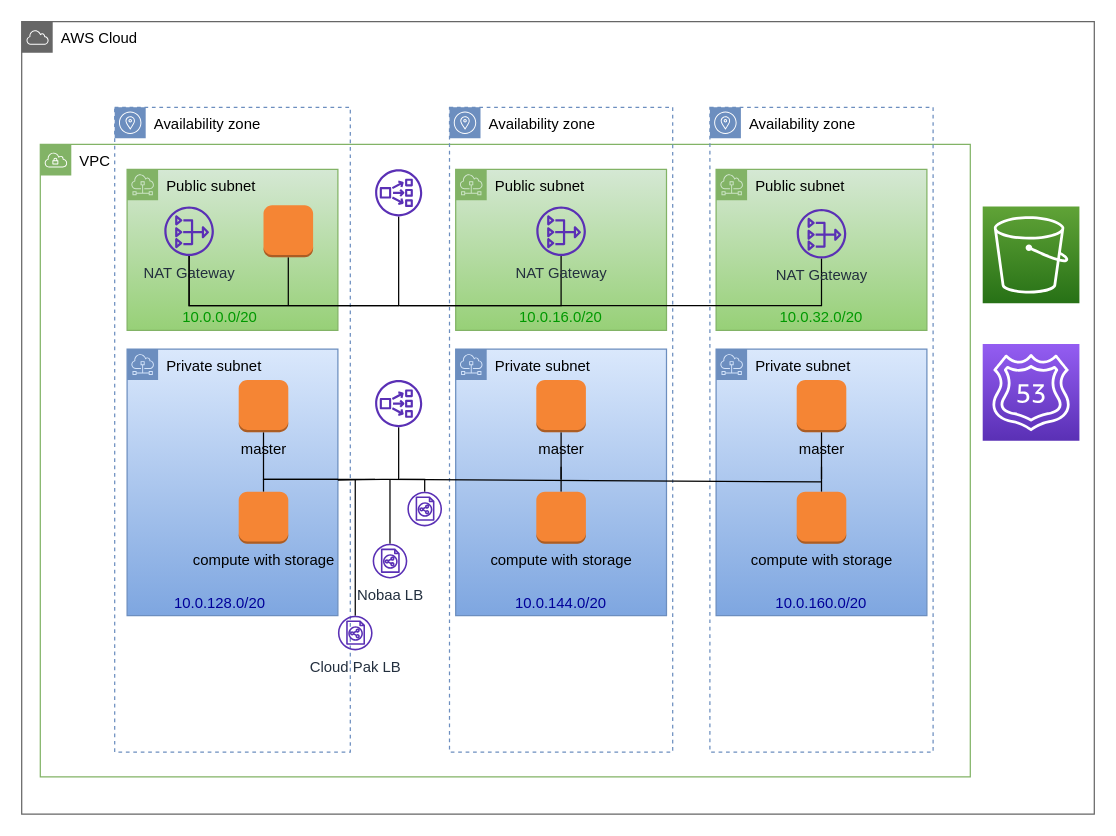
Some shapes in this 1116 by 836 pixel diagram are drawn without their labels. Here are the shapes that lost their labels. From the top down, the centre of each, then its label:
At (x=398, y=192): "Public Network LB".
At (x=287, y=230): "Boot Node".
At (x=398, y=403): "Private Network LB".
At (x=424, y=508): "S3 LB".
